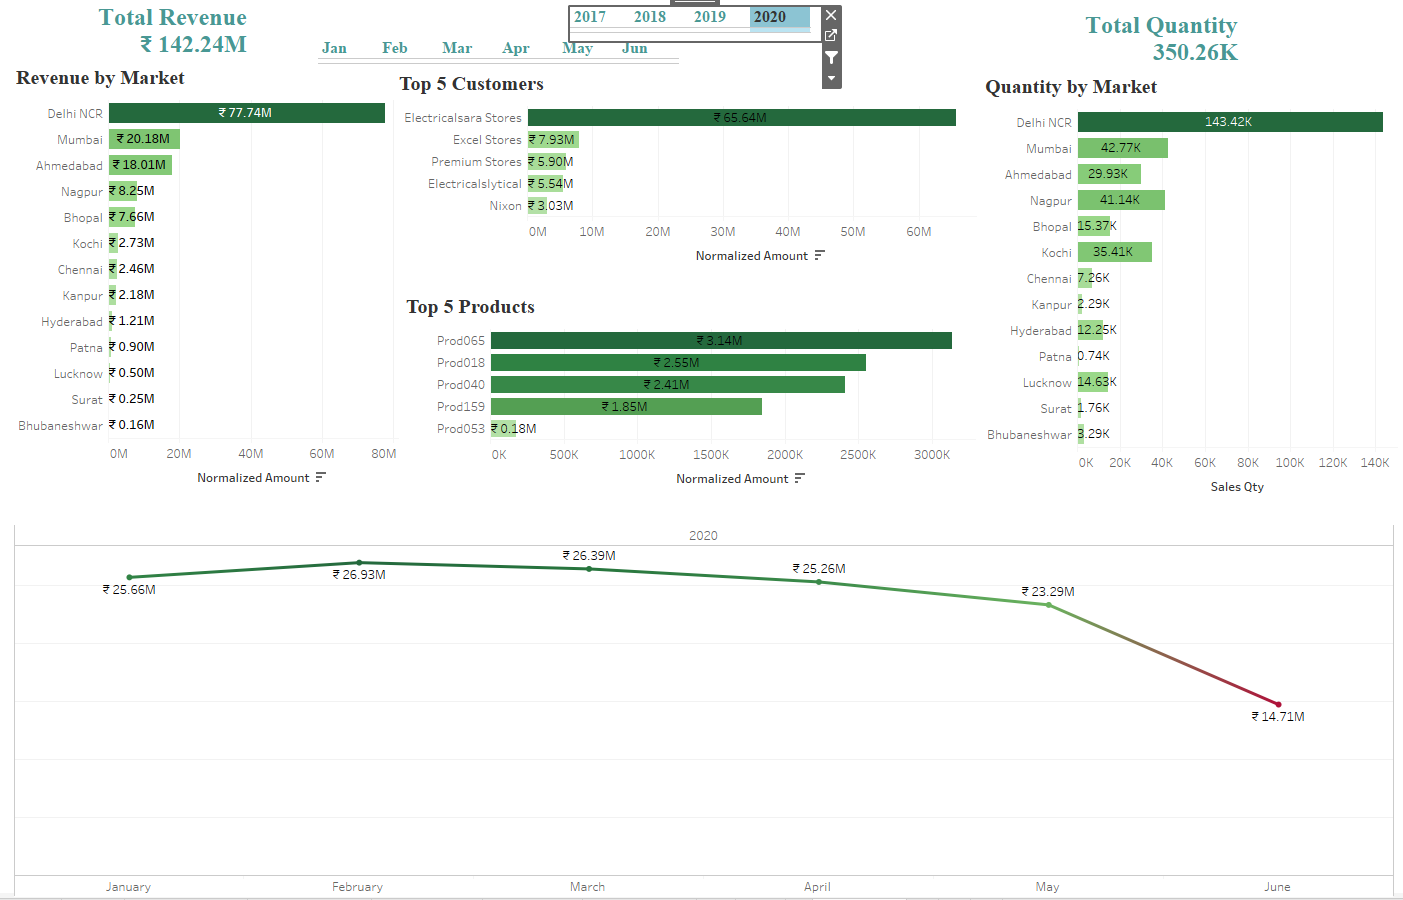

Layout of this report page (visuals, bound fields, positions):
{"tool":"tableau","page":{"name":"Dashboard","canvas":[1700,900],"ordinal":0},"visuals":[{"type":"worksheet","title":"Quantity","mark":"Automatic","box":[1072,4,256,88]},{"type":"worksheet","title":"Total Revenue","mark":"Automatic","box":[101,11,187,75]},{"type":"worksheet","title":"Year","mark":"Automatic","cols":["cy_date"],"box":[580,14,251,34]},{"type":"worksheet","title":"Month","mark":"Automatic","cols":["cy_date"],"box":[328,45,729,50]},{"type":"worksheet","title":"Revenue by Market","mark":"Automatic","rows":["markets_name"],"cols":["Calculation_656118194912772096"],"box":[22,69,387,496]},{"type":"worksheet","title":"Top 5 Customers","mark":"Automatic","rows":["custmer_name"],"cols":["Calculation_656118194912772096"],"box":[405,75,582,207]},{"type":"worksheet","title":"Quantity by Market","mark":"Automatic","rows":["markets_name"],"cols":["sales_qty"],"box":[991,78,417,464]},{"type":"worksheet","title":"Top 5 Products","mark":"Automatic","rows":["product_code (products)"],"cols":["Calculation_656118194912772096"],"box":[412,298,578,226]},{"type":"worksheet","title":"Revenue by years","mark":"Line","rows":["Calculation_656118194912772096"],"cols":["date","date"],"box":[24,532,1380,372]}]}

Visuals, with their boxes on the page's 1700x900 design canvas (x1, y1, x2, y2). These are canvas units, not pixel positions in the 1403x900 screenshot, which may show the page scaled, cropped or inside an application window:
"Quantity" worksheet: (left=1072, top=4, right=1328, bottom=92)
"Total Revenue" worksheet: (left=101, top=11, right=288, bottom=86)
"Year" worksheet: (left=580, top=14, right=831, bottom=48)
"Month" worksheet: (left=328, top=45, right=1057, bottom=95)
"Revenue by Market" worksheet: (left=22, top=69, right=409, bottom=565)
"Top 5 Customers" worksheet: (left=405, top=75, right=987, bottom=282)
"Quantity by Market" worksheet: (left=991, top=78, right=1408, bottom=542)
"Top 5 Products" worksheet: (left=412, top=298, right=990, bottom=524)
"Revenue by years" worksheet (Line marks): (left=24, top=532, right=1404, bottom=904)
